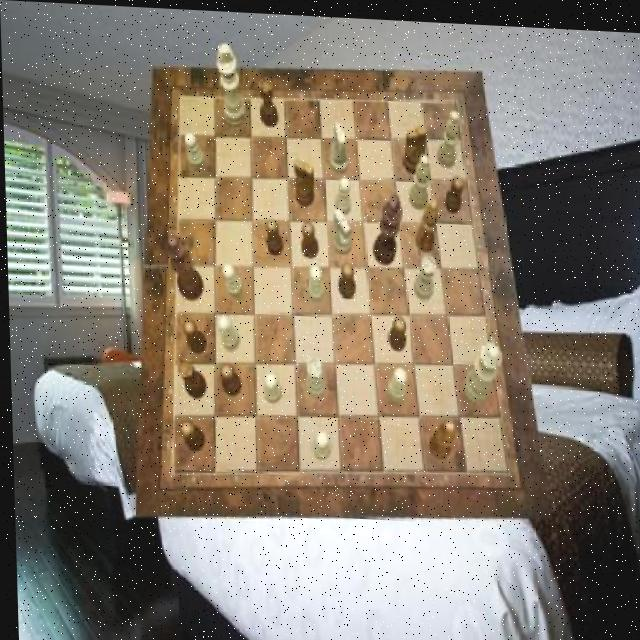bishop: (415, 192, 439, 247), (425, 415, 453, 457)
black-bishop: (370, 189, 403, 262)
black-king: (403, 123, 428, 171), (294, 157, 315, 205)
black-knight: (181, 316, 205, 352), (442, 170, 464, 208), (179, 418, 204, 451), (219, 362, 240, 396), (299, 218, 317, 255), (336, 260, 355, 295), (264, 217, 282, 253), (386, 312, 404, 347)
black-pawn: (164, 233, 203, 300)
black-queen: (176, 358, 206, 399), (259, 75, 279, 125)
black-rook: (436, 104, 460, 162), (408, 149, 432, 206)
white-bishop: (218, 41, 247, 126)
white-king: (330, 206, 353, 253), (329, 120, 349, 173)
white-knight: (216, 313, 240, 349), (184, 132, 205, 169), (221, 260, 243, 295), (385, 363, 406, 398), (306, 261, 324, 300), (333, 173, 350, 212), (261, 369, 281, 402), (310, 429, 329, 458)
white-pawn: (459, 337, 502, 401)
white-queen: (411, 250, 435, 297), (303, 355, 325, 398)
